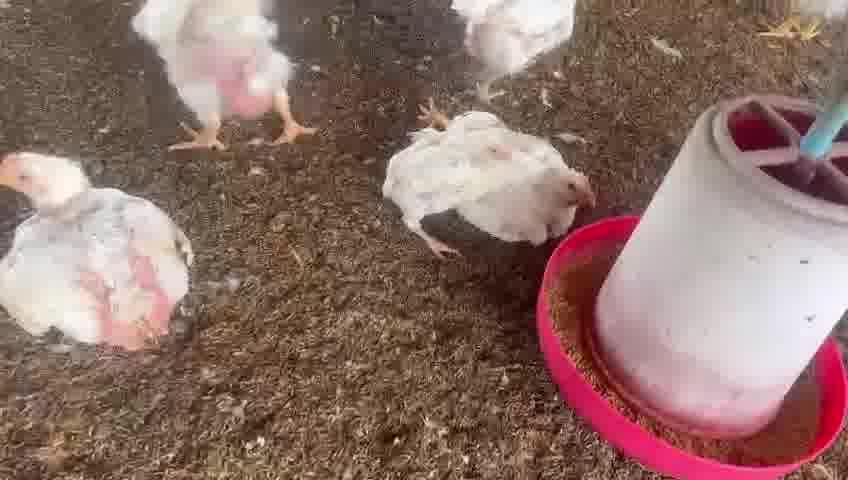AbNormal: (386, 89, 596, 261)
Normal: (1, 139, 199, 345), (119, 0, 329, 164), (438, 0, 601, 106)
